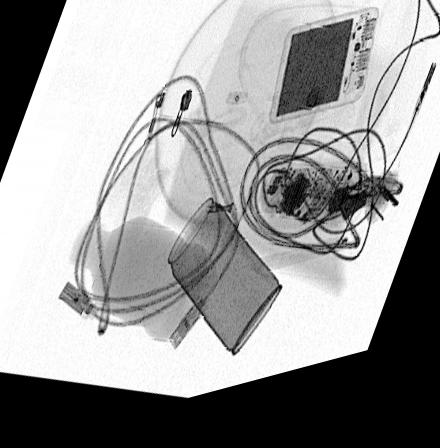Powerbank: (268, 26, 380, 139)
